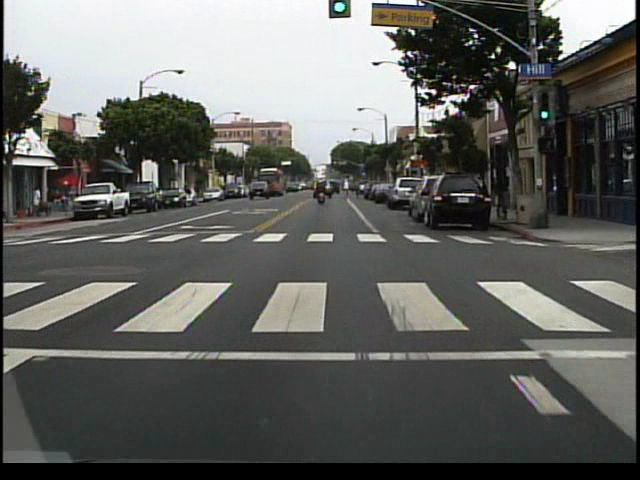person: (32, 182, 46, 220), (315, 183, 328, 210)
